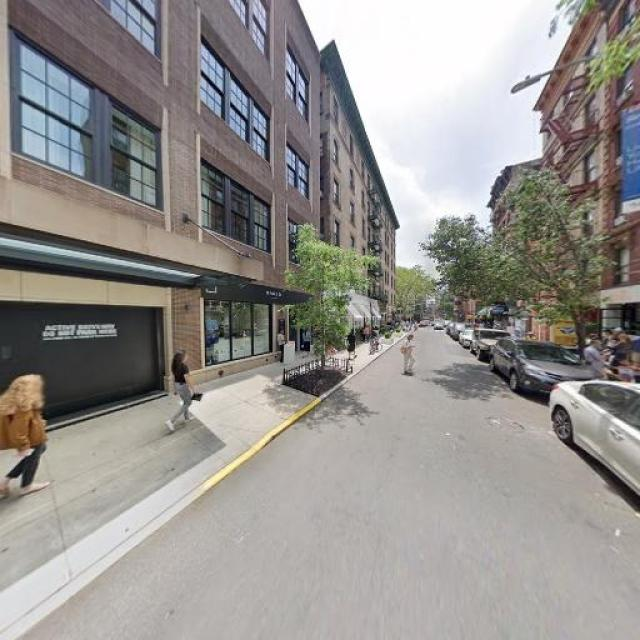Building: (1, 1, 320, 432), (548, 1, 640, 369)
